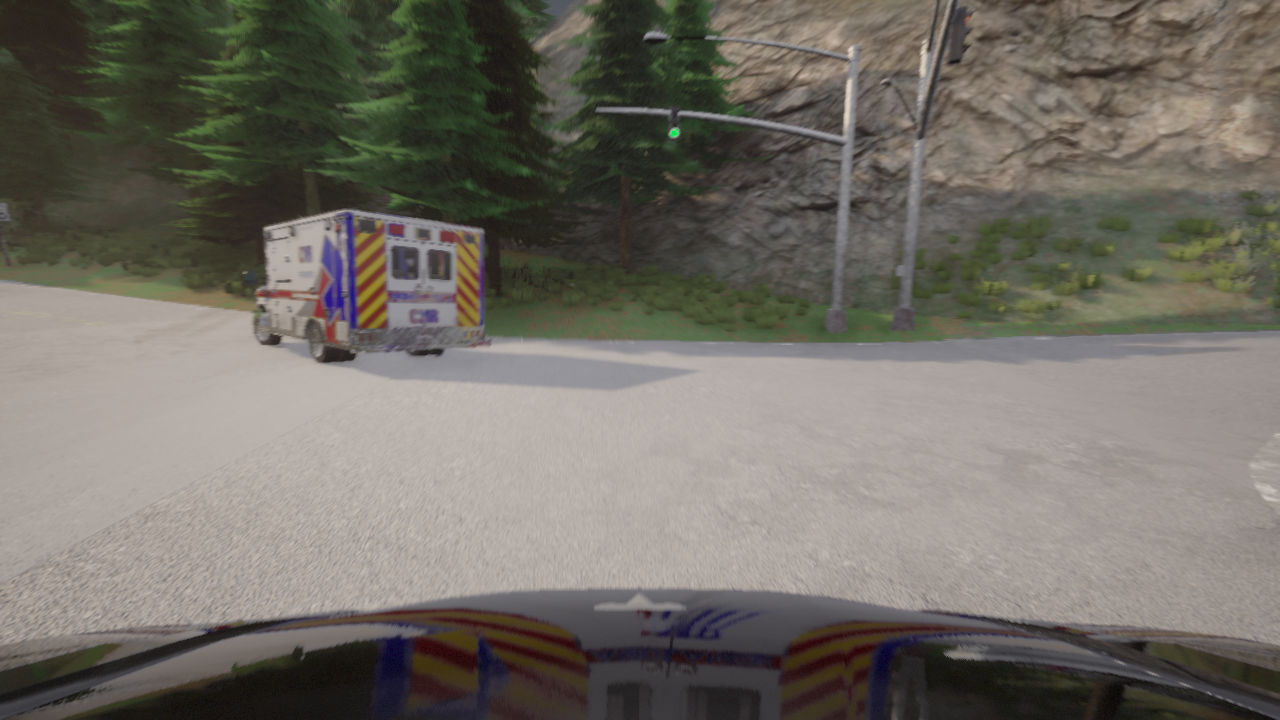cyclist: (0, 588, 1279, 719), (242, 208, 490, 363)
